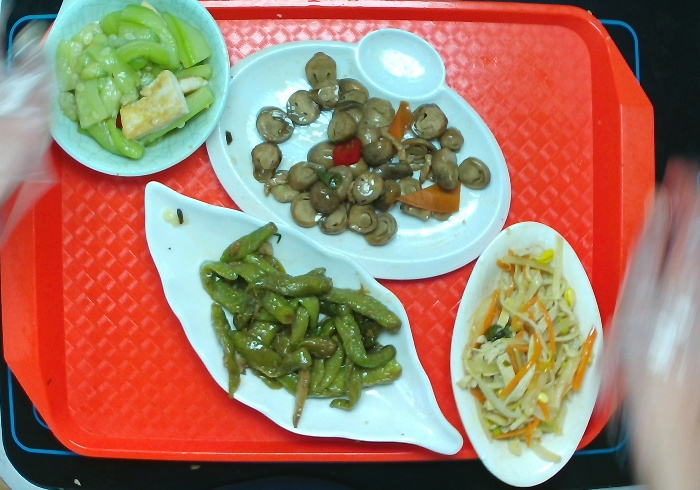RJxy-Bai_Se_Tuo_Yuan: (448, 219, 606, 490)
RJxy-Shu_Ye_Pan: (142, 172, 470, 468)
RJxy-Xiao_Jiao_Yuan_Wan: (37, 1, 231, 188)
RJxy-Zhan_Liao_Pan: (205, 29, 514, 286)
